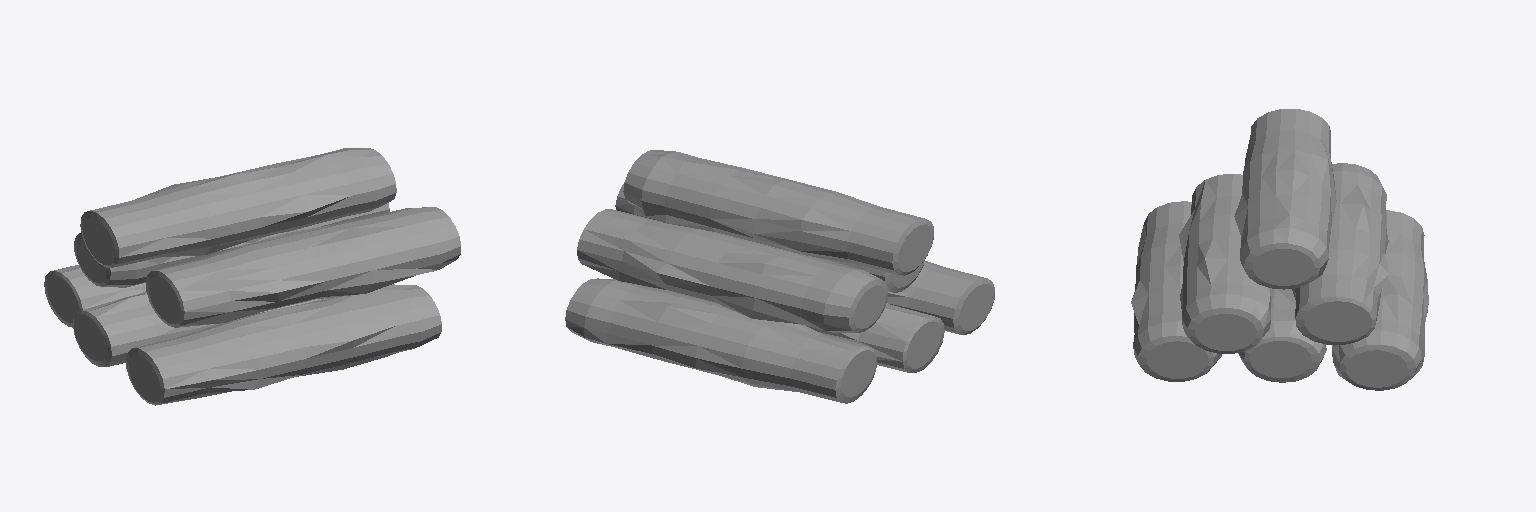
File: wood.obj
3 views of the same model, side by side, from view 1: azimuth 30°, elevation 25°; view 2: azimuth 150°, elevation 25°; view 3: azimuth 270°, elevation 25° (orthographic).
Visible parts, largest first — view 1: Wood.004_Cylinder.009, Wood_Cylinder, Wood.005_Cylinder.010, Wood.001_Cylinder.006, Wood.003_Cylinder.008, Wood.002_Cylinder.007; view 2: Wood.003_Cylinder.008, Wood.005_Cylinder.010, Wood.002_Cylinder.007, Wood_Cylinder, Wood.001_Cylinder.006, Wood.004_Cylinder.009; view 3: Wood.005_Cylinder.010, Wood.004_Cylinder.009, Wood.003_Cylinder.008, Wood.002_Cylinder.007, Wood_Cylinder, Wood.001_Cylinder.006.
Part boxes in pixels (left/top/right/bottom): Wood.004_Cylinder.009: left=146, top=207, right=460, bottom=327; Wood_Cylinder: left=126, top=284, right=441, bottom=405; Wood.005_Cylinder.010: left=80, top=148, right=396, bottom=267; Wood.001_Cylinder.006: left=73, top=291, right=335, bottom=366; Wood.003_Cylinder.008: left=74, top=203, right=389, bottom=287; Wood.002_Cylinder.007: left=44, top=265, right=145, bottom=327; Wood.003_Cylinder.008: left=577, top=209, right=888, bottom=332; Wood.005_Cylinder.010: left=623, top=150, right=933, bottom=275; Wood.002_Cylinder.007: left=565, top=278, right=876, bottom=403; Wood_Cylinder: left=887, top=261, right=994, bottom=334; Wood.001_Cylinder.006: left=645, top=286, right=944, bottom=372; Wood.004_Cylinder.009: left=615, top=184, right=924, bottom=292; Wood.005_Cylinder.010: left=1234, top=109, right=1336, bottom=289; Wood.004_Cylinder.009: left=1179, top=174, right=1272, bottom=353; Wood.003_Cylinder.008: left=1292, top=163, right=1389, bottom=344; Wood.002_Cylinder.007: left=1332, top=210, right=1428, bottom=390; Wood_Cylinder: left=1131, top=201, right=1221, bottom=381; Wood.001_Cylinder.006: left=1238, top=289, right=1326, bottom=382.
Size of the model in its own units: 2.26 by 1.07 by 1.8.